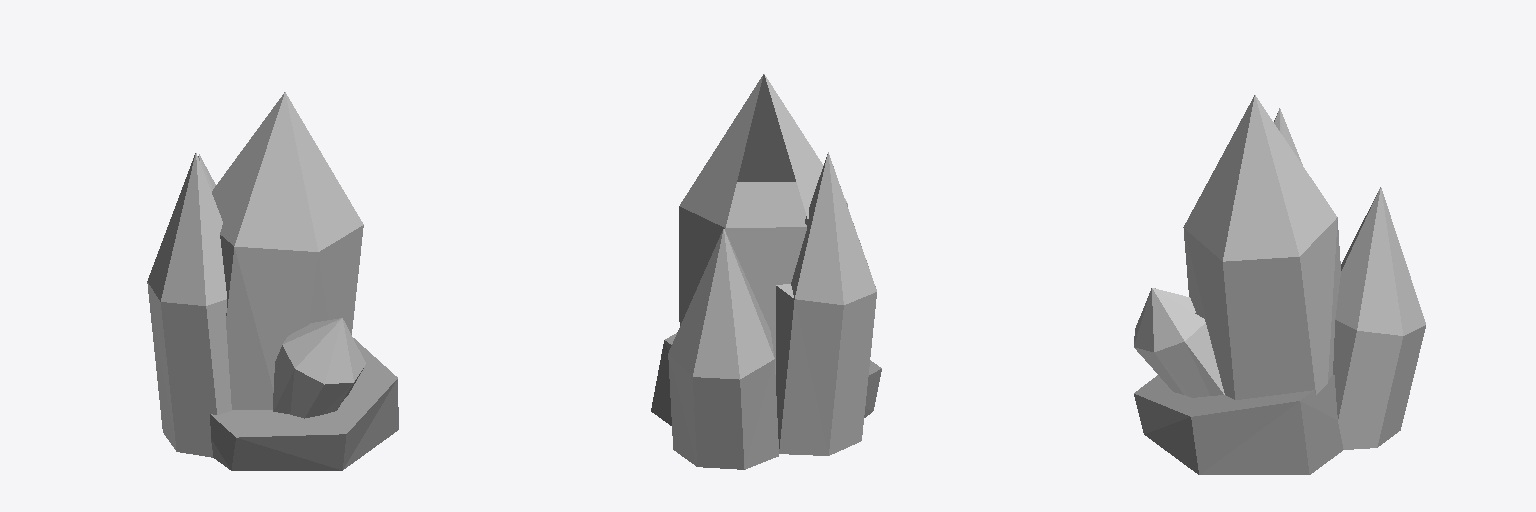
The model's file is solis_crystals4.obj.
3 renders of one model, left to right at view 1: azimuth 30°, elevation 25°; view 2: azimuth 150°, elevation 25°; view 3: azimuth 270°, elevation 25°, orthographic.
Visible parts, largest first — view 1: Cylinder, Cone, Cylinder.003, Cylinder.002, Cone.002, Cone.003, Cylinder.004; view 2: Cylinder.002, Cylinder, Cylinder.001, Cone, Cone.001, Cone.002, Cylinder.003; view 3: Cylinder, Cylinder.003, Cone, Cylinder.001, Cone.001, Cylinder.004, Cone.003.
Part boxes in pixels (x1,y1,x2,y2): Cylinder: (220,225,363,409); Cone: (212,92,363,251); Cylinder.003: (210,338,398,470); Cylinder.002: (147,282,231,457); Cone.002: (147,153,226,305); Cone.003: (282,318,365,384); Cylinder.004: (273,345,363,418); Cylinder.002: (776,286,876,455); Cylinder: (679,182,847,374); Cylinder.001: (668,354,778,469); Cone: (680,74,847,227); Cone.001: (668,229,774,379); Cone.002: (776,152,876,304); Cylinder.003: (651,333,881,425); Cylinder: (1183,217,1340,399); Cylinder.003: (1134,375,1343,474); Cone: (1184,95,1336,261); Cylinder.001: (1333,320,1425,449); Cone.001: (1335,187,1425,335); Cylinder.004: (1134,323,1224,397); Cone.003: (1134,288,1205,351).
Size of the model in its own units: 0.6385 by 1.01 by 0.7911.